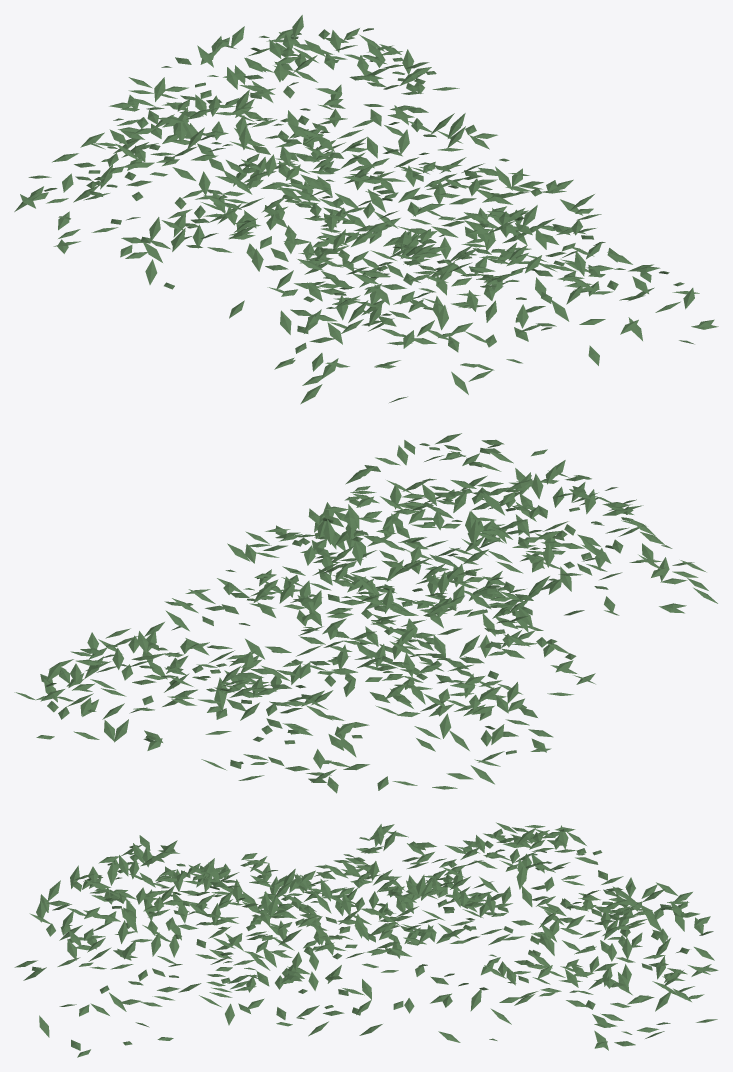
The model's file is xiyuan-vegetation-34-near.glb.
The picture shows the model from 3 angles, top to bottom: view 1: azimuth 30°, elevation 25°; view 2: azimuth 150°, elevation 25°; view 3: azimuth 270°, elevation 25°; orthographic projection. The views are drawn at different scales.
Visible parts, largest first — view 1: shrubs.004; view 2: shrubs.004; view 3: shrubs.004.
Part boxes in pixels (x1,y1,x2,y2): shrubs.004: (14,15,718,404); shrubs.004: (14,433,717,793); shrubs.004: (14,822,718,1057).
Size of the model in its own units: 5.25 by 1.2 by 7.67.
